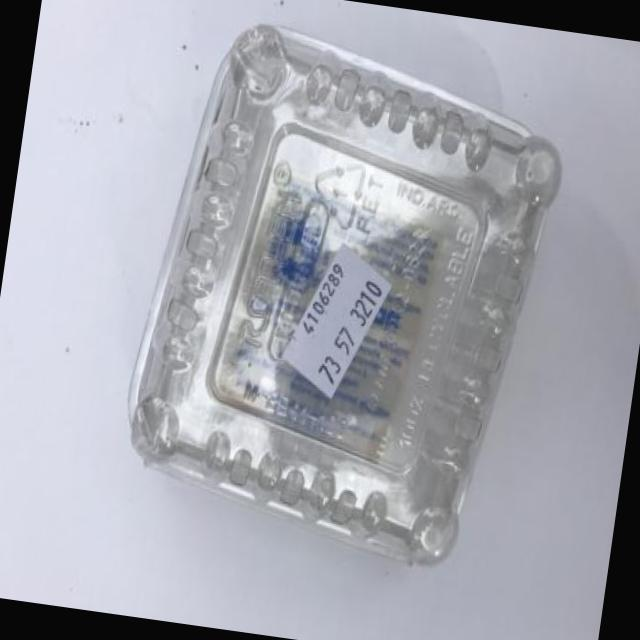Recycle: (106, 11, 576, 579)
